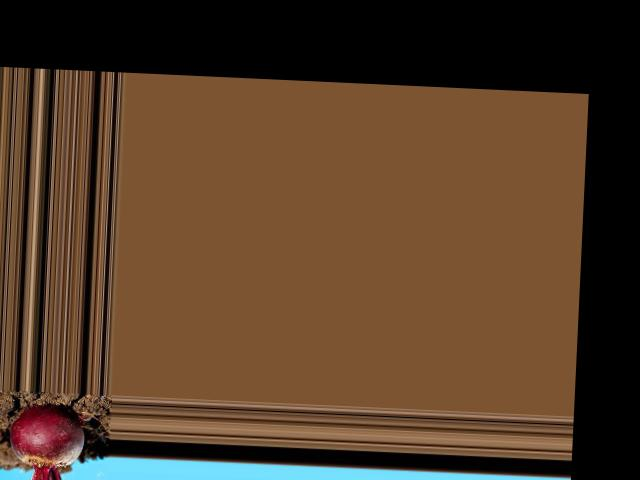beet: (8, 403, 86, 480)
